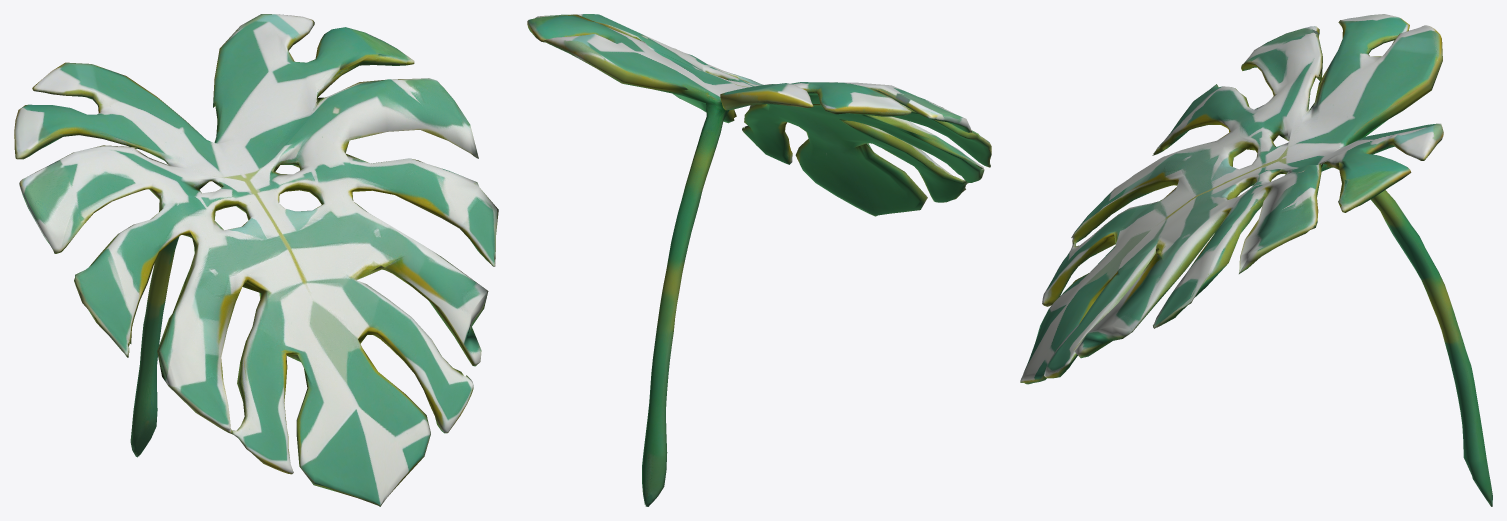
The model's file is mon_speckle_greencream.glb.
3 views of the same model, side by side, from view 1: azimuth 30°, elevation 25°; view 2: azimuth 150°, elevation 25°; view 3: azimuth 270°, elevation 25° (orthographic). The views are drawn at different scales.
Size of the model in its own units: 2 by 1.96 by 1.97.
Materials: 1 (1 with a texture image).
